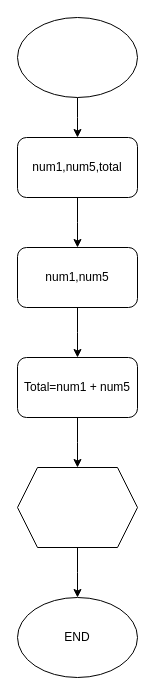
The diagram is 155 pixels wide and 695 high, and some of its shapes have lost their labels. The shapes that lost their labels are listed below. From the top down, each one's centre as x and y in pixels, then its label:
At (x=77, y=57): "Start".
At (x=77, y=507): "Total".
